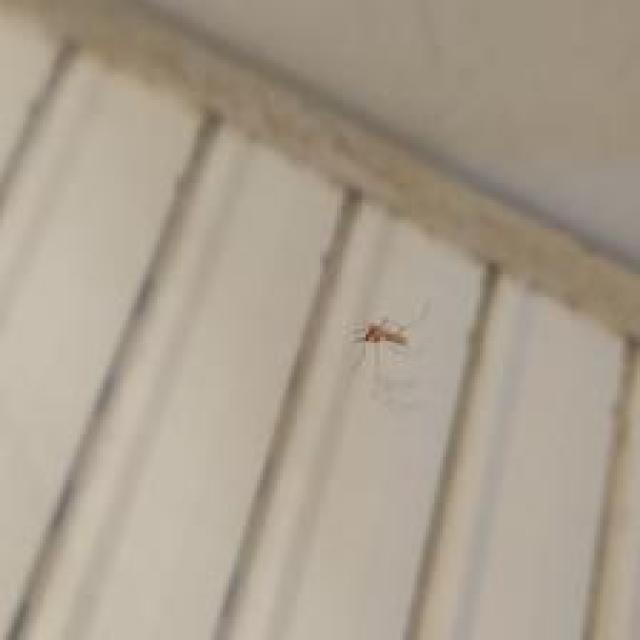Culex: (352, 314, 412, 366)
